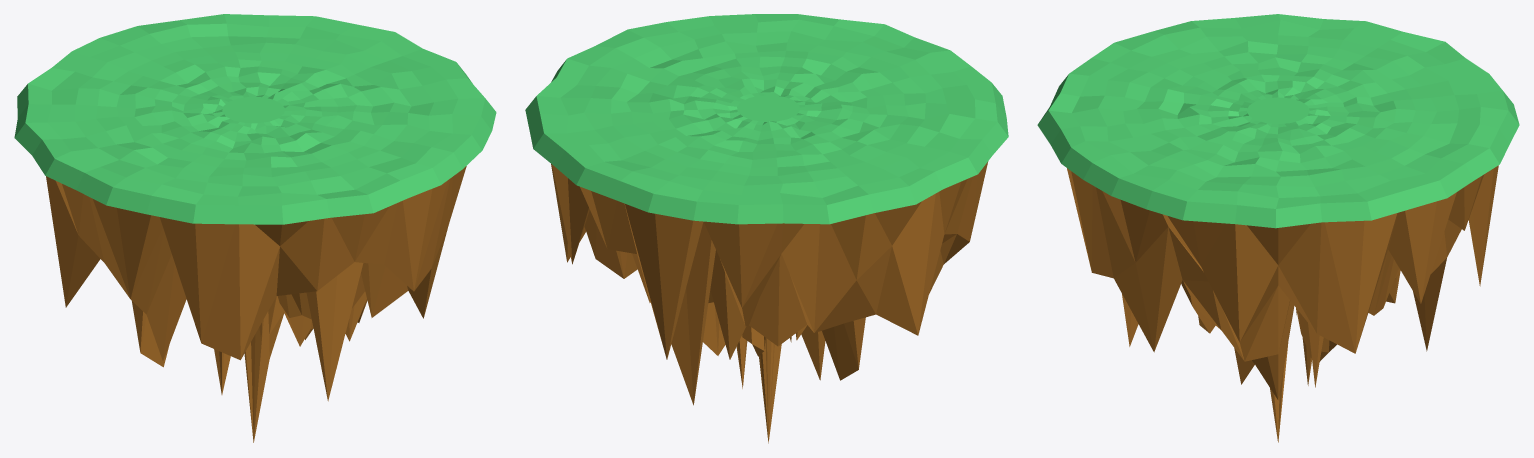
Rendered from terrain2.fbx.
3 renders of one model, left to right at view 1: azimuth 30°, elevation 25°; view 2: azimuth 150°, elevation 25°; view 3: azimuth 270°, elevation 25°, orthographic.
Parts seen in each view (by area): view 1: Circle.001; view 2: Circle.001; view 3: Circle.001.
Boxes of the visible parts, x1,y1,x2,y2 form: Circle.001: [14, 14, 496, 442]; Circle.001: [525, 14, 1008, 443]; Circle.001: [1037, 14, 1519, 442].
Bounding box in the file's own units: 7.99 × 6.15 × 7.96.
